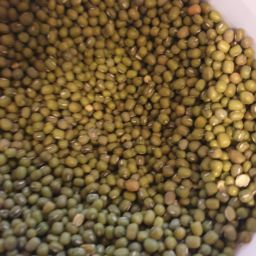Green gram dal(moong): (79, 10, 256, 256), (34, 65, 223, 186), (3, 4, 74, 256)
